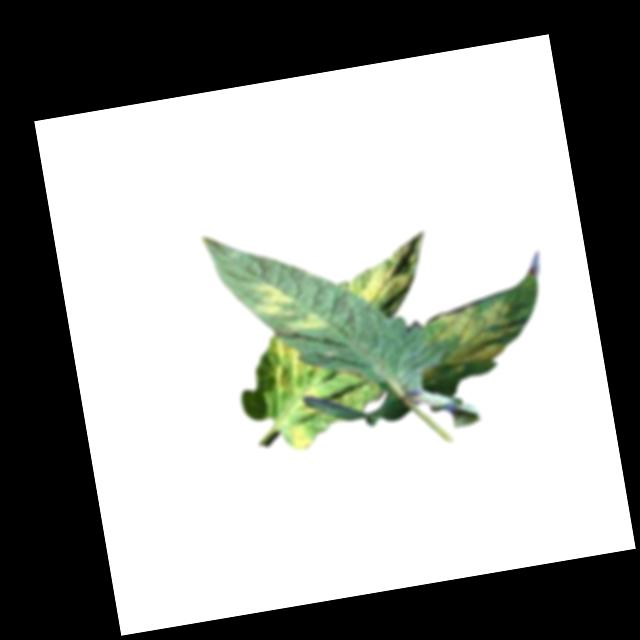Leaf_Mold: (410, 299, 518, 383), (343, 231, 437, 316), (250, 273, 329, 342), (269, 334, 315, 391), (281, 421, 314, 454), (298, 388, 325, 418)
